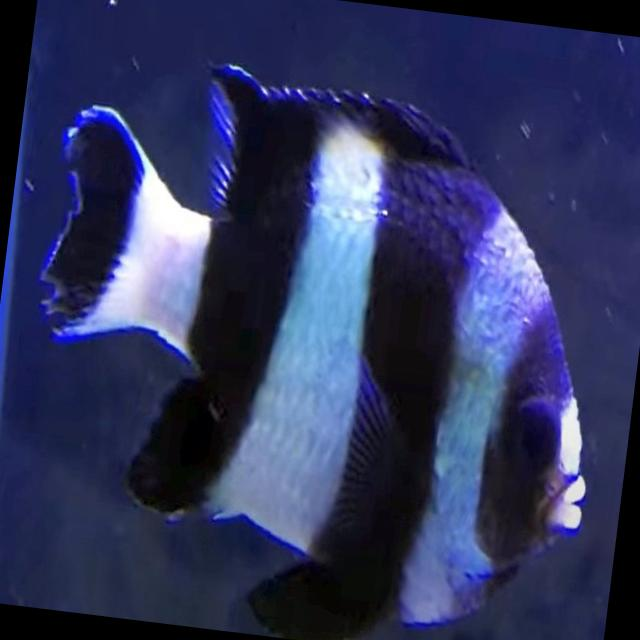ThreeStripedDamselfish: (0, 31, 637, 640)
